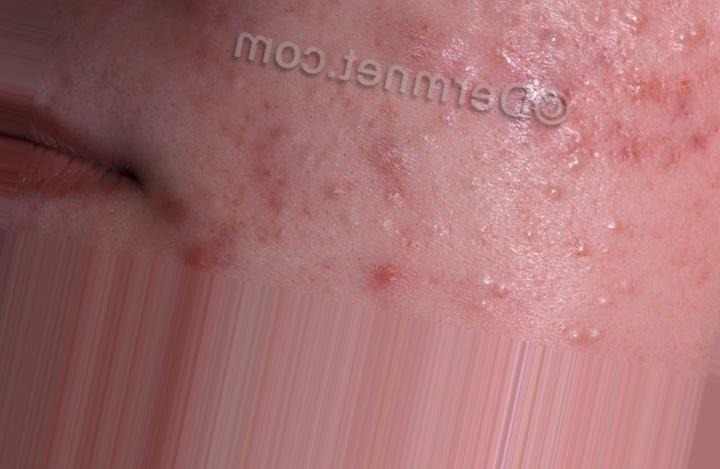Acne: (102, 19, 687, 337)
